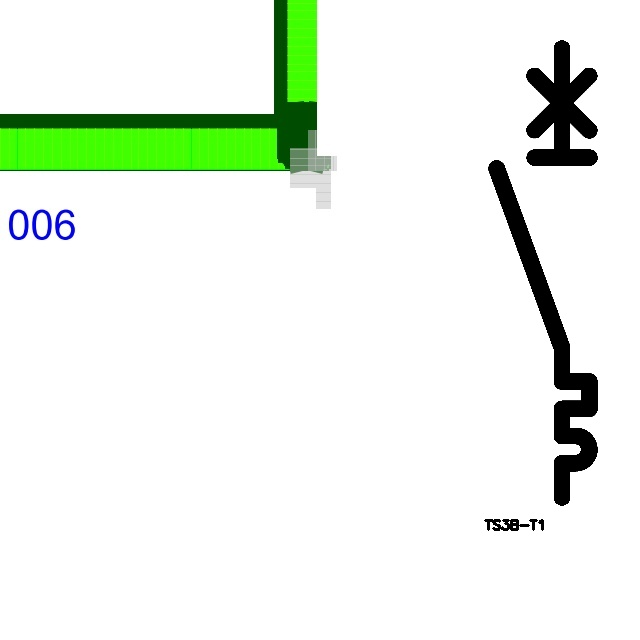interruptor_termomagnetico: (485, 37, 601, 509)
